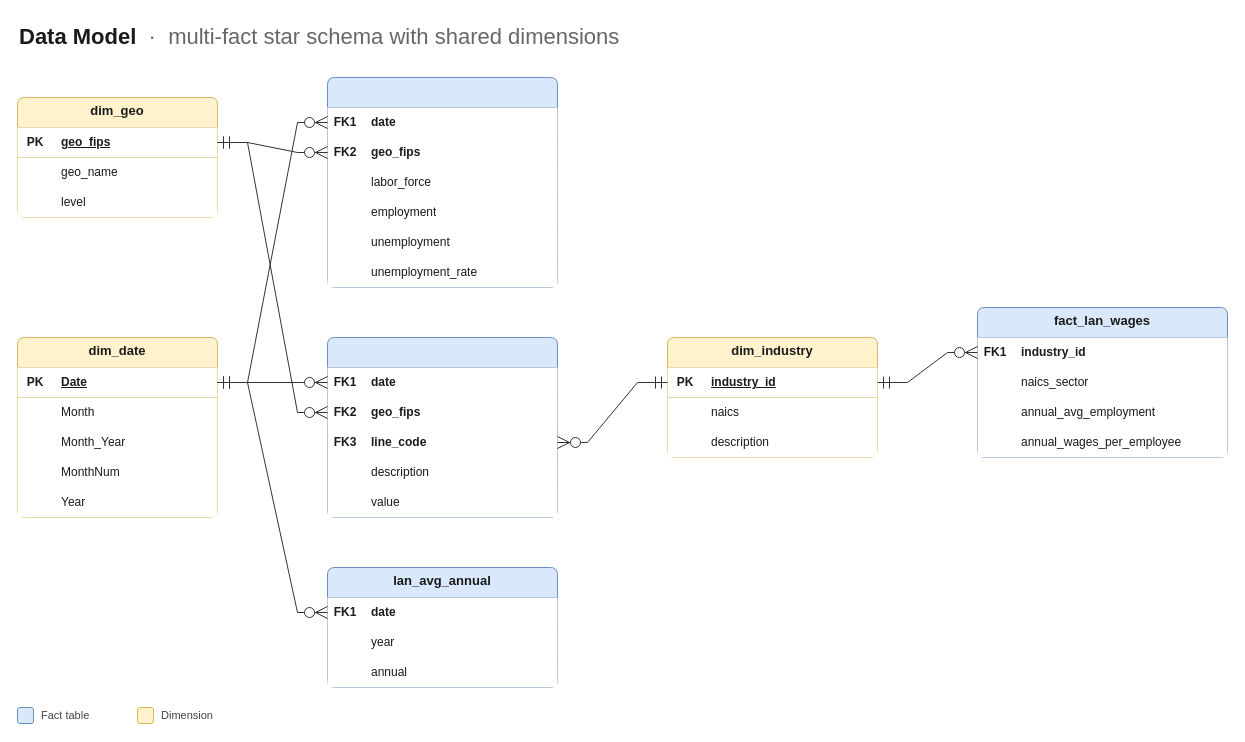
The diagram is 1245 pixels wide and 742 high, and some of its shapes have lost their labels. The box of each missing label's shape, as (x1, y1, x2, y2) in pixels:
fact_employment: (326, 76, 558, 288)
fact_gdp: (326, 336, 558, 518)
